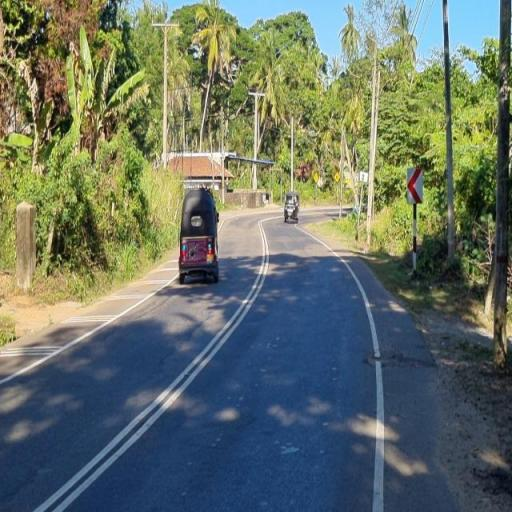double_white_line: (34, 213, 274, 511)
